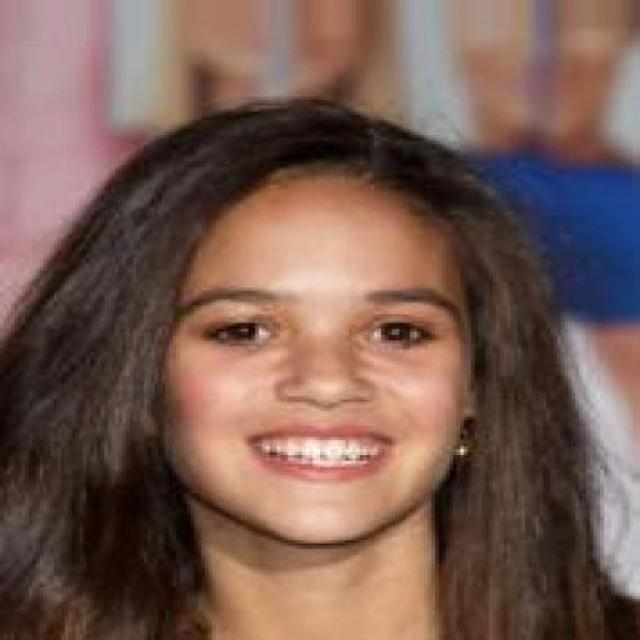bareface: (123, 147, 471, 558)
